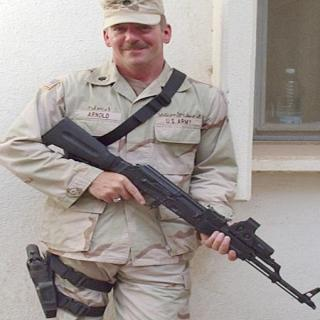gun: (41, 117, 317, 310), (18, 242, 59, 319)
